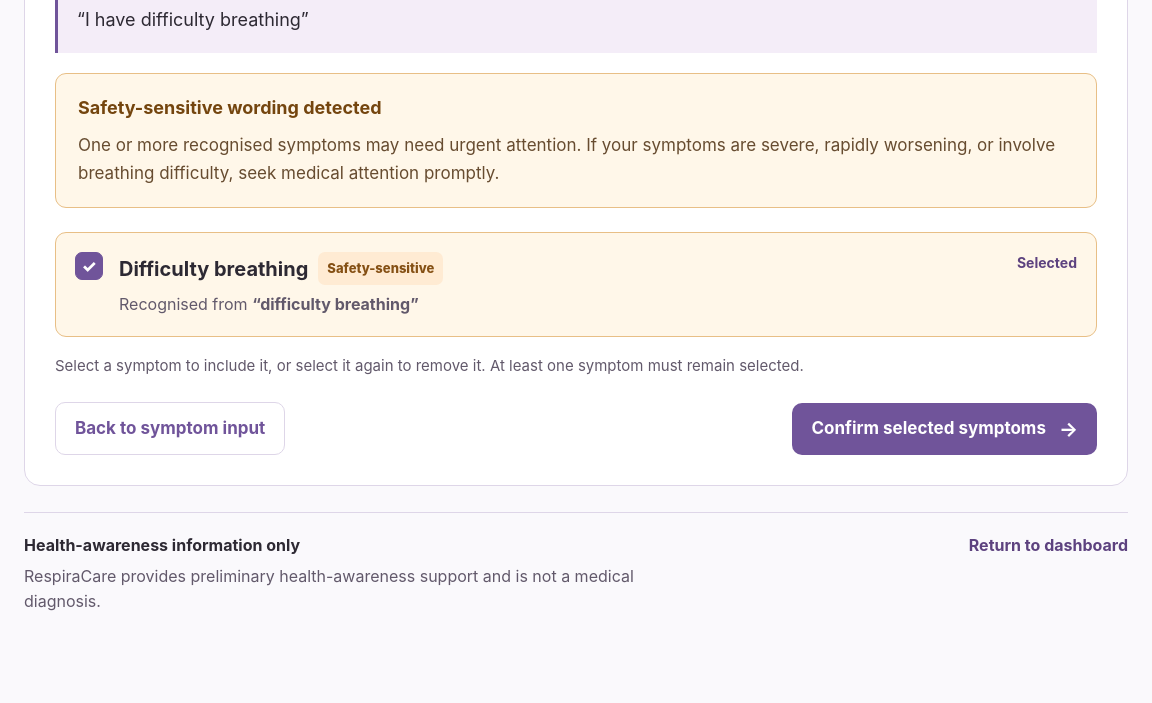
Test: Symptom confirmation workflow › shows urgent guidance for a confirmed red flag
(page scrolled)
What coordinates should you click on to do the following:
click the button "Confirm selected symptoms →"
I would click on:
 (945, 428)
Its box is [792,402,1097,454].
(page scrolled)
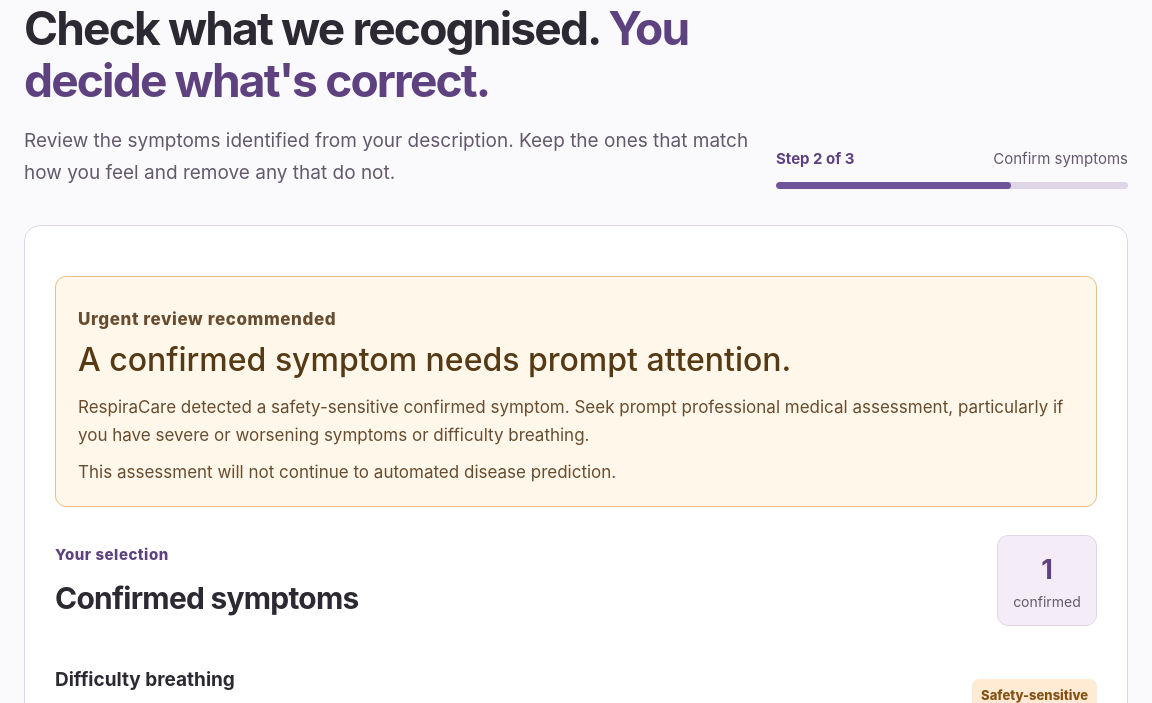
expect the text "Urgent review recommended" is shown: met, box [78,309,336,329]
expect the heading "A confirmed symptom needs prompt attention." is shown: met, box [78,340,791,379]
